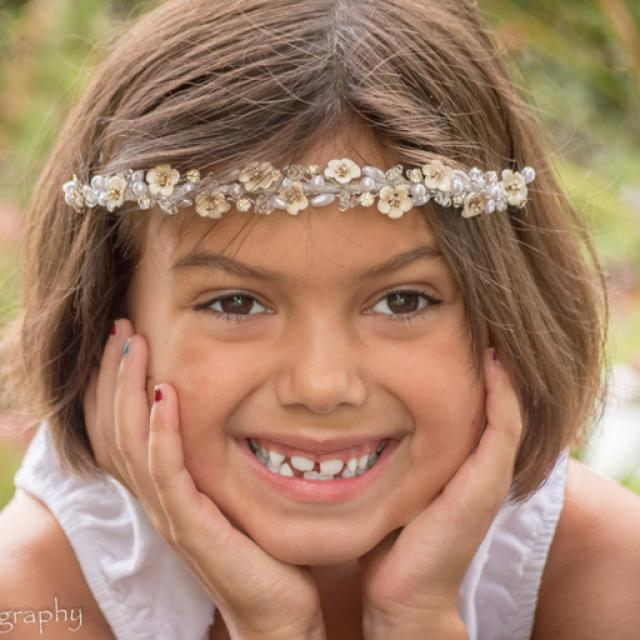happy: (138, 141, 482, 561)
